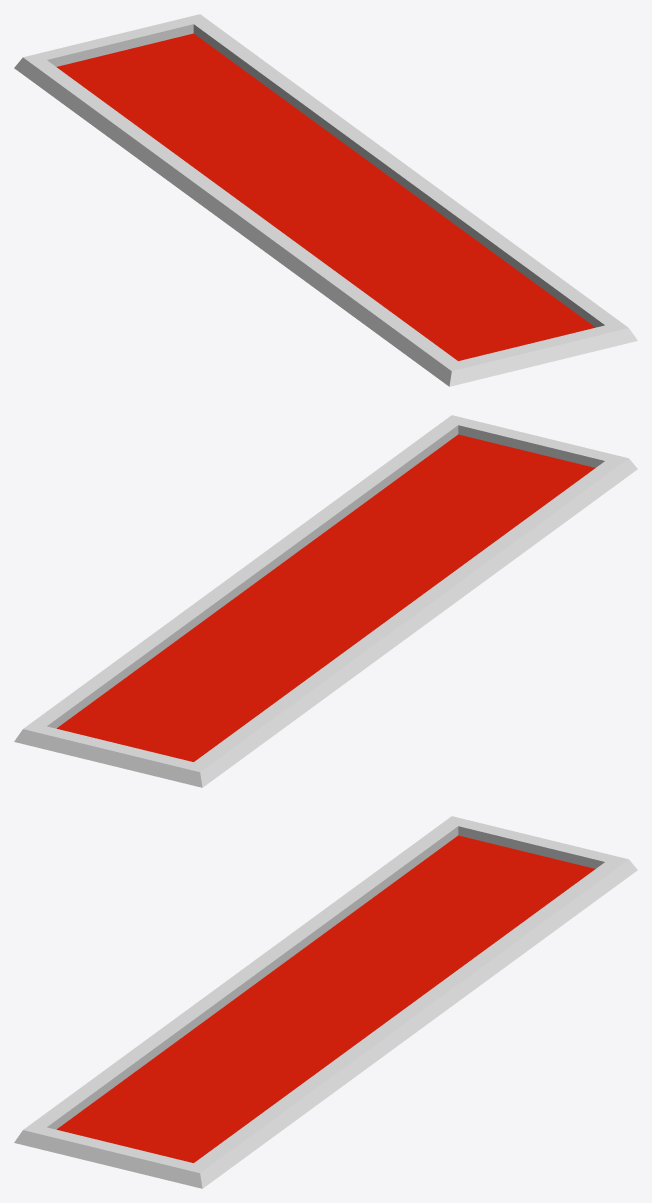
File: Gutter.fbx
The picture shows the model from 3 angles, top to bottom: view 1: azimuth 30°, elevation 25°; view 2: azimuth 150°, elevation 25°; view 3: azimuth 330°, elevation 25°; orthographic projection.
Visible parts, largest first — view 1: Plane.004; view 2: Plane.004; view 3: Plane.004.
Part boxes in pixels (left/top/right/bottom): Plane.004: left=14, top=14, right=637, bottom=386; Plane.004: left=14, top=415, right=637, bottom=787; Plane.004: left=14, top=816, right=637, bottom=1188.
Bounding box in the file's own units: 50 × 3 × 200.
